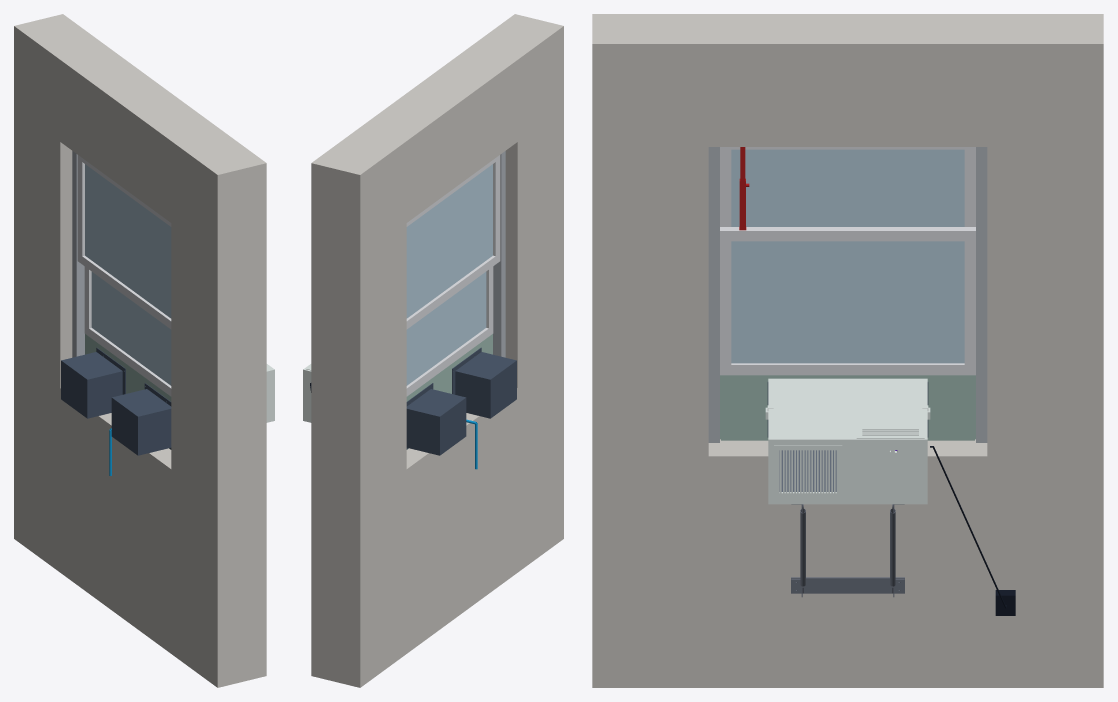
3 views of the same model, side by side, from view 1: azimuth 30°, elevation 25°; view 2: azimuth 150°, elevation 25°; view 3: azimuth 270°, elevation 25° (orthographic). The views are drawn at different scales.
Parts seen in each view (by area): view 1: Wall with window opening, Upper sash glass, Outdoor hoods and collars, Lower sash glass, Upper sash, Window frame, Lower sash (raised), Window insert panel, Insulated housing; view 2: Wall with window opening, Upper sash glass, Outdoor hoods and collars, Lower sash glass, Upper sash, Window frame, Lower sash (raised), Window insert panel, Insulated housing; view 3: Wall with window opening, Lower sash glass, Insulated housing, Upper sash glass, Lower sash (raised), Window frame, Window insert panel, Sill bracket, Upper sash, Exhaust filter, coarse, 24 V power supply.
Part boxes in pixels (<box>): Wall with window opening: <box>14,14,266,687</box>; Upper sash glass: <box>85,164,171,318</box>; Outdoor hoods and collars: <box>61,347,171,455</box>; Lower sash glass: <box>91,272,171,385</box>; Upper sash: <box>77,155,171,329</box>; Window frame: <box>72,151,84,357</box>; Lower sash (raised): <box>84,266,171,396</box>; Window insert panel: <box>85,334,171,449</box>; Insulated housing: <box>266,364,274,422</box>; Wall with window opening: <box>311,14,563,687</box>; Upper sash glass: <box>406,164,492,318</box>; Outdoor hoods and collars: <box>406,347,516,455</box>; Lower sash glass: <box>406,272,486,385</box>; Upper sash: <box>406,155,500,329</box>; Window frame: <box>493,151,505,357</box>; Lower sash (raised): <box>406,266,493,396</box>; Window insert panel: <box>406,334,492,449</box>; Insulated housing: <box>303,364,311,422</box>; Wall with window opening: <box>592,14,1103,687</box>; Lower sash glass: <box>731,241,964,363</box>; Insulated housing: <box>765,378,930,504</box>; Upper sash glass: <box>731,149,964,226</box>; Lower sash (raised): <box>720,227,975,375</box>; Window frame: <box>708,147,987,442</box>; Window insert panel: <box>720,375,975,440</box>; Sill bracket: <box>791,504,904,597</box>; Upper sash: <box>720,147,975,226</box>; Exhaust filter, coarse: <box>779,450,836,491</box>; 24 V power supply: <box>930,446,1015,615</box>.
Size of the model in its own units: 0.735 by 2.5 by 1.8.
